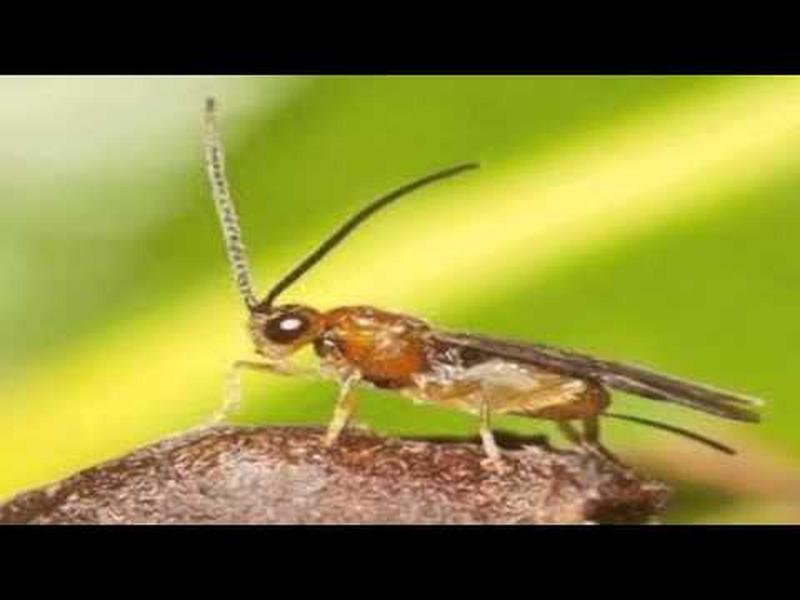Gall_midge: (221, 259, 769, 480)
